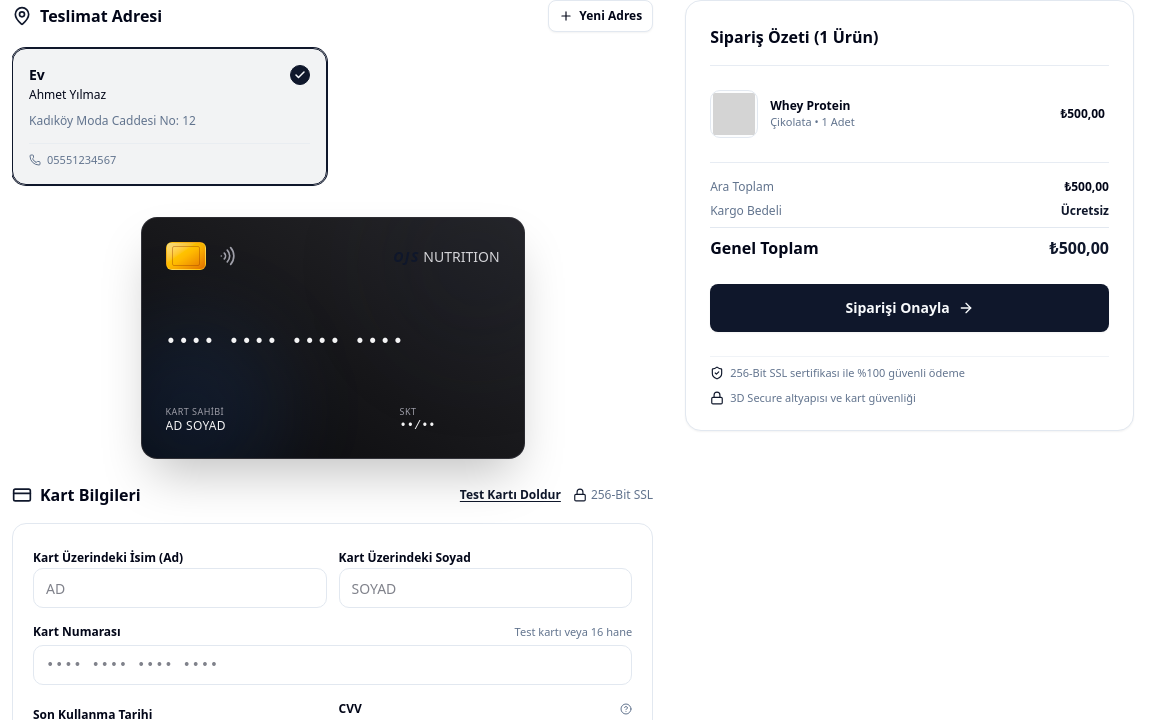
CheckoutView › displays validation errors when submitting with empty card fields
This screenshot has width=1164, height=720.
Step 1. Click the button "Siparişi Onayla" → (910, 308), box [710,284,1109,332]
(page scrolled)
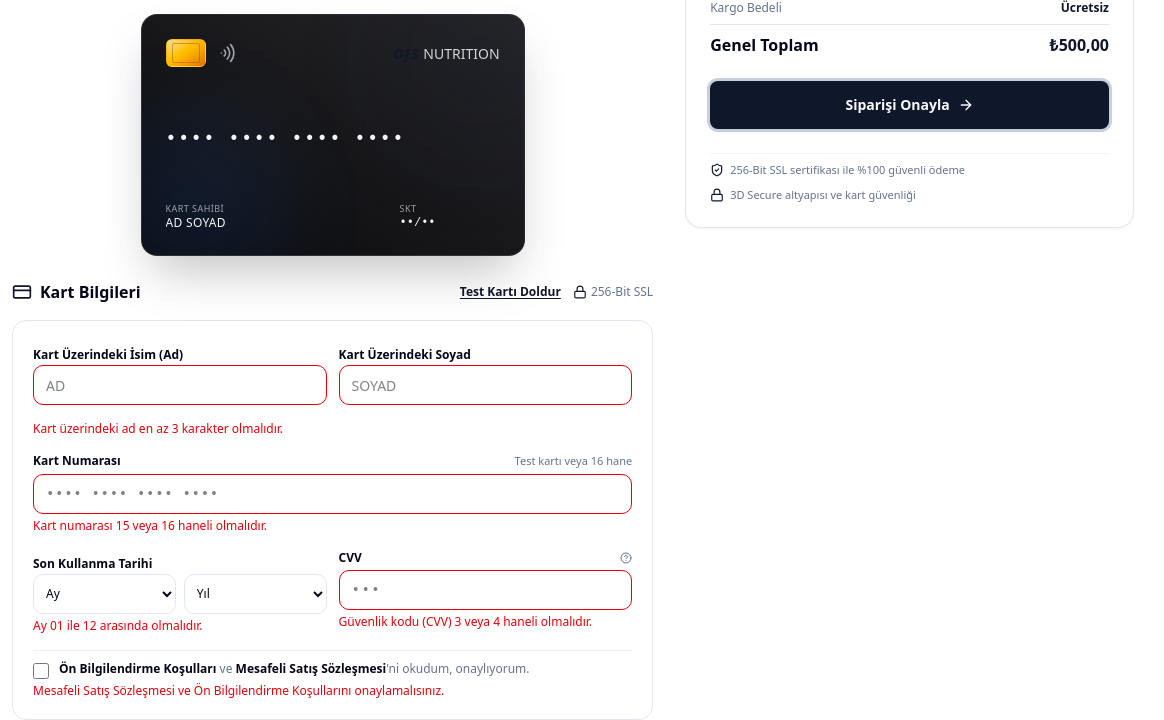
Now the text "Kart üzerindeki ad en az 3 karakter olmalıdır." is shown, box [33,420,283,437]
Now the text "Kart numarası 15 veya 16 haneli olmalıdır." is shown, box [33,517,267,534]
Now the text "onaylamalısınız" is shown, box [33,682,444,699]
